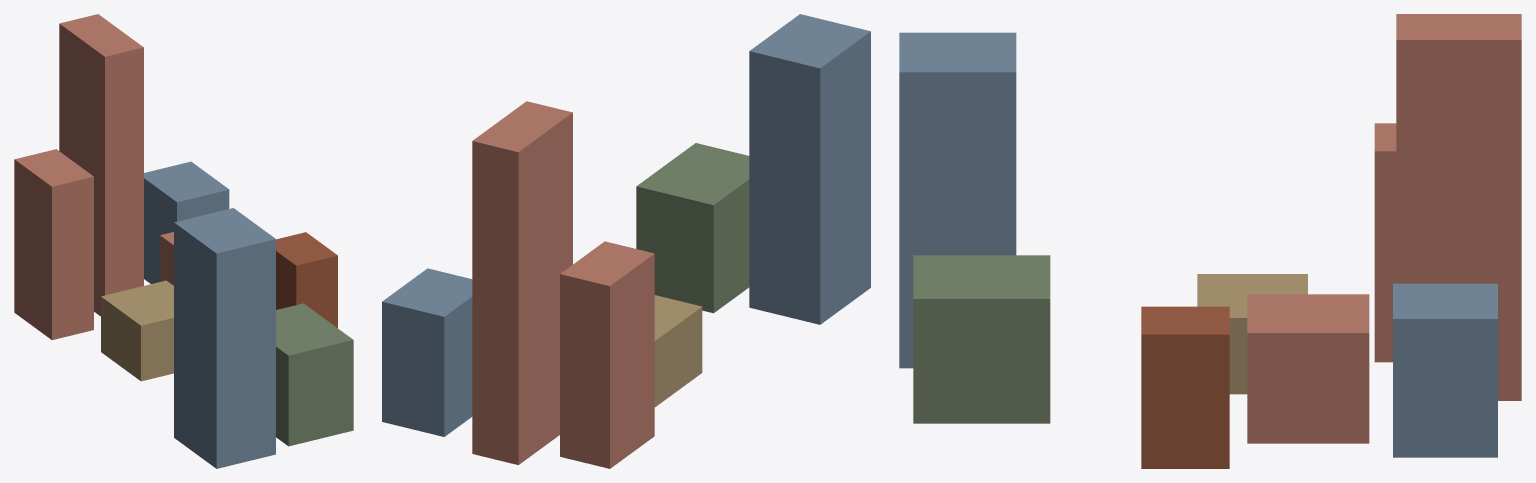
Rendered from synth-18-04.lod2.glb.
3 views of the same model, side by side, from view 1: azimuth 30°, elevation 25°; view 2: azimuth 150°, elevation 25°; view 3: azimuth 270°, elevation 25° (orthographic). The views are drawn at different scales.
Visible parts, largest first — view 1: synth-18-04; view 2: synth-18-04; view 3: synth-18-04.
Boxes of the visible parts, x1=… form: synth-18-04: x1=14, y1=14, x2=353, y2=468; synth-18-04: x1=382, y1=14, x2=870, y2=468; synth-18-04: x1=899, y1=14, x2=1521, y2=468.
Size of the model in its own units: 43.3 by 51.85 by 81.06.
